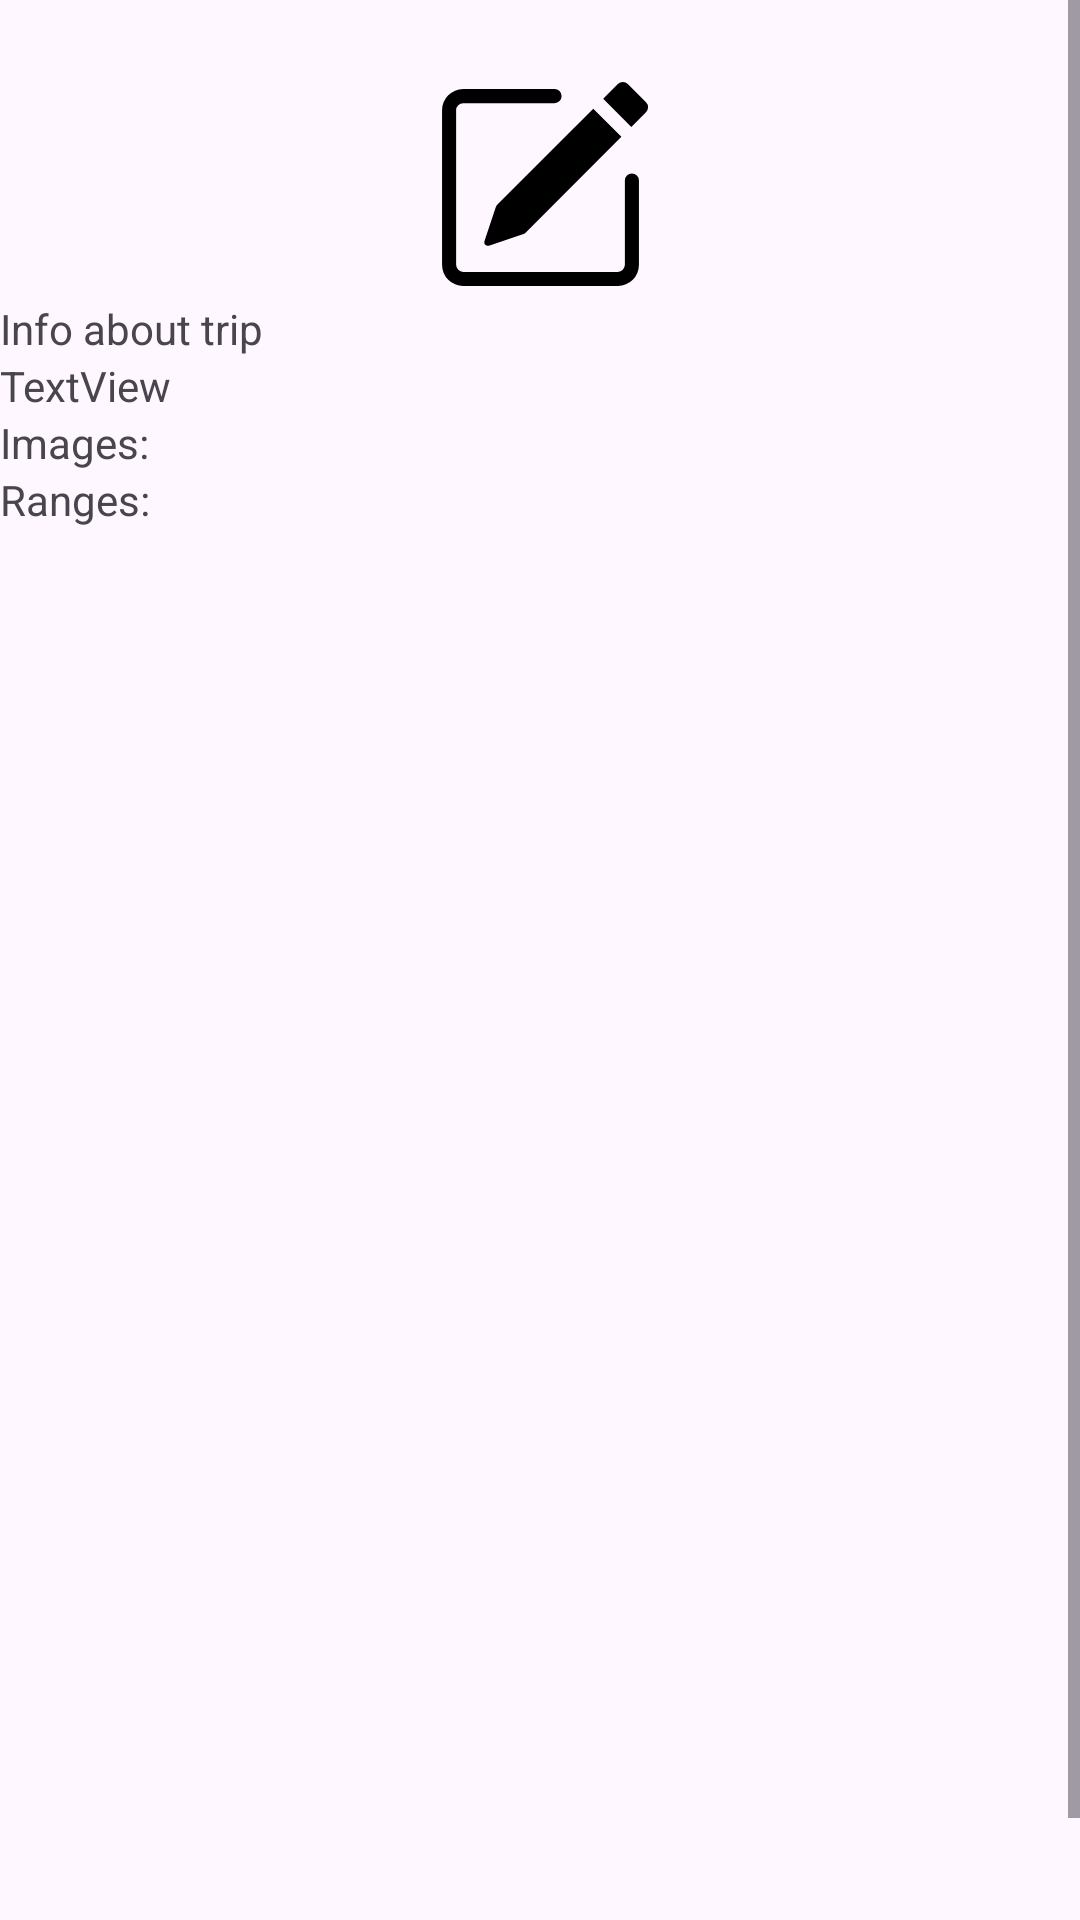

Icon bounding boxes for this 1080px x 1920px phone screenshot, format (x1, y1, x2, y2):
note: (442, 82, 648, 286)
